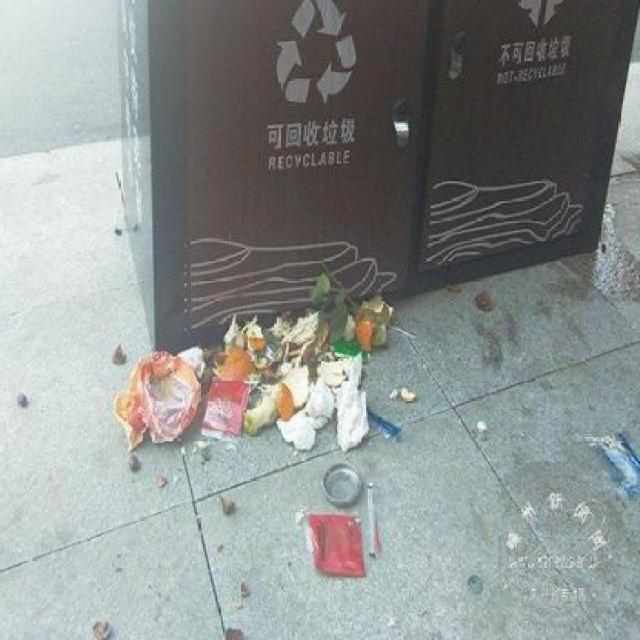garbage: (126, 314, 380, 453)
